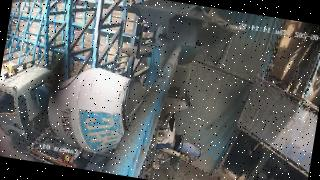cement_mixer_truck: (0, 61, 191, 180)
swing_chute: (152, 35, 200, 99)
